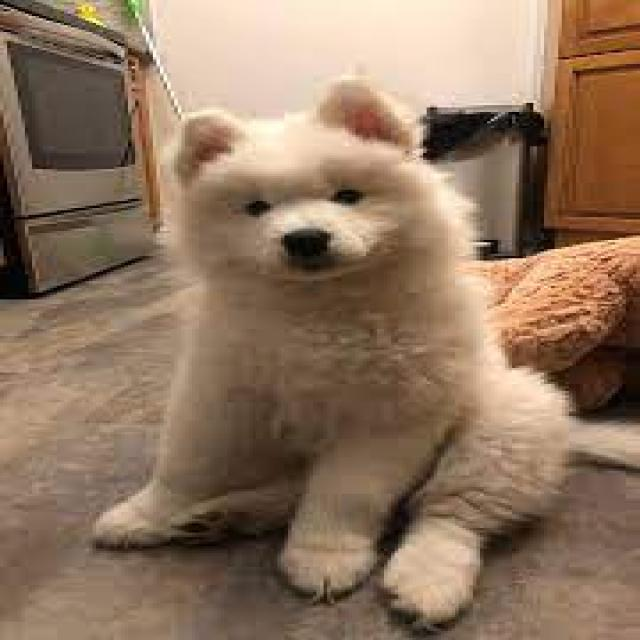dogs: (84, 70, 586, 632)
